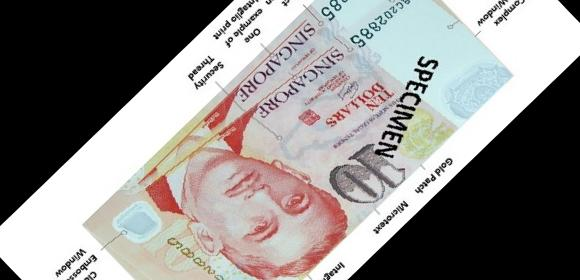10SingaporeDollar: (82, 0, 512, 280)
